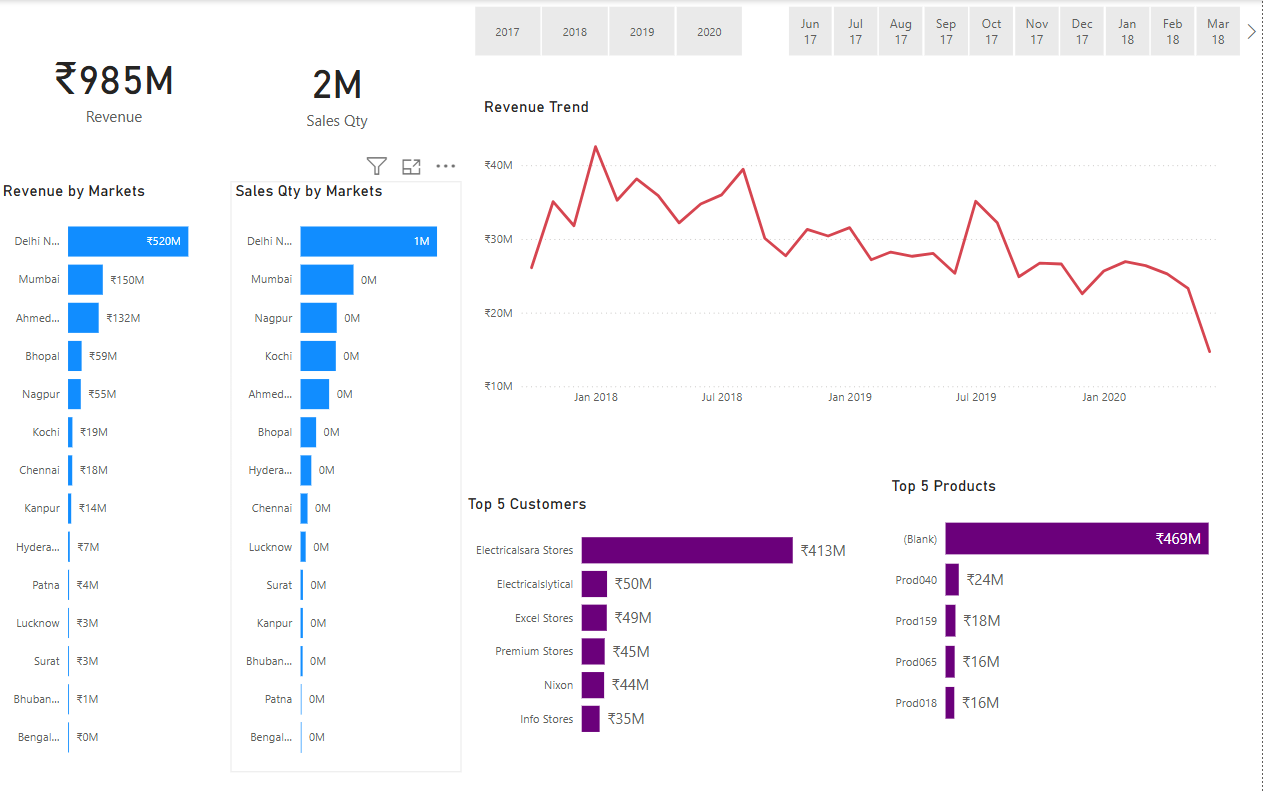

What the dashboard file says about the page in this screenshot:
{"tool":"powerbi","page":{"name":"Key Insights","canvas":[1350,850],"ordinal":0},"visuals":[{"type":"card","fields":{"Values":["BaseMeasures (2).Revenue"]},"box":[0,0,247.9,184.6],"z":0},{"type":"card","fields":{"Values":["BaseMeasures (2).Sales Qty"]},"box":[247.9,0,227.9,193.1],"z":1000},{"type":"barChart","title":"Revenue by Markets","fields":{"Y":["BaseMeasures (2).Revenue"],"Category":["sales markets.markets_name"]},"box":[0,193.1,247.9,631.9],"z":2000},{"type":"barChart","title":"Sales Qty by Markets","fields":{"Y":["BaseMeasures (2).Sales Qty"],"Category":["sales markets.markets_name"]},"box":[247.9,193.1,247.9,631.9],"z":3000},{"type":"slicer","fields":{"Values":["sales date.year"]},"box":[483.2,0,335.5,66.5],"z":4000},{"type":"slicer","fields":{"Values":["sales date.cy_date"]},"box":[818.6,0,531.7,66.5],"z":5000},{"type":"barChart","title":"Top 5 Customers","fields":{"Y":["BaseMeasures (2).Revenue"],"Category":["sales customers.custmer_name"]},"box":[496.4,527.1,421.7,274.9],"z":6000},{"type":"barChart","title":"Top 5 Products","fields":{"Y":["BaseMeasures (2).Revenue"],"Category":["sales products.product_code"]},"box":[948.7,508.4,400.3,282.9],"z":7000},{"type":"lineChart","title":"Revenue Trend","fields":{"Y":["BaseMeasures (2).Revenue"],"Category":["sales date.cy_date"]},"box":[513.8,104.4,809.1,338.6],"z":8000}]}

Visuals, with their boxes in screenshot pixels (x1, y1, x2, y2), scaled from the page's 1350x850 canvas onto the 1263x792 screenshot:
card - BaseMeasures (2).Revenue: <box>0,0,232,172</box>
card - BaseMeasures (2).Sales Qty: <box>232,0,445,180</box>
"Revenue by Markets" barChart: <box>0,180,232,769</box>
"Sales Qty by Markets" barChart: <box>232,180,464,769</box>
slicer - sales date.year: <box>452,0,766,62</box>
slicer - sales date.cy_date: <box>766,0,1262,62</box>
"Top 5 Customers" barChart: <box>464,491,859,747</box>
"Top 5 Products" barChart: <box>888,474,1262,737</box>
"Revenue Trend" lineChart: <box>481,97,1238,413</box>
